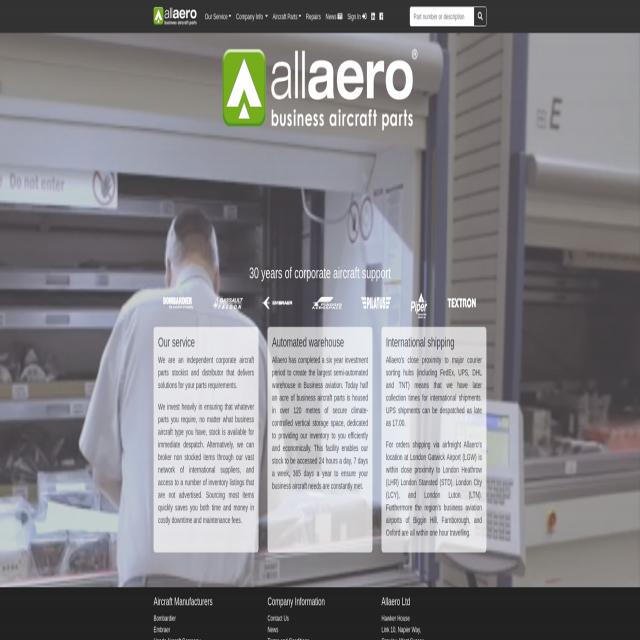button: (222, 49, 418, 134), (154, 7, 198, 25), (234, 6, 270, 26), (270, 6, 304, 26), (202, 6, 234, 26), (345, 6, 369, 26), (410, 292, 428, 318), (323, 6, 345, 26), (304, 6, 324, 26), (163, 297, 193, 309), (213, 297, 243, 309), (262, 297, 292, 309), (312, 297, 342, 309), (361, 297, 391, 309), (447, 297, 477, 309), (474, 6, 486, 27), (369, 6, 377, 26), (377, 6, 385, 26)
field: (410, 6, 474, 27)
